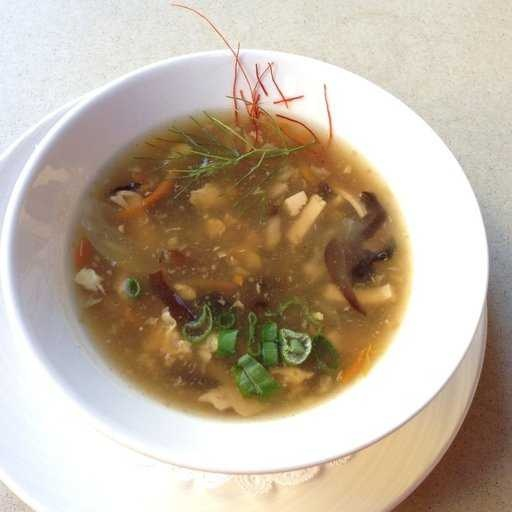soup: (69, 82, 384, 412)
